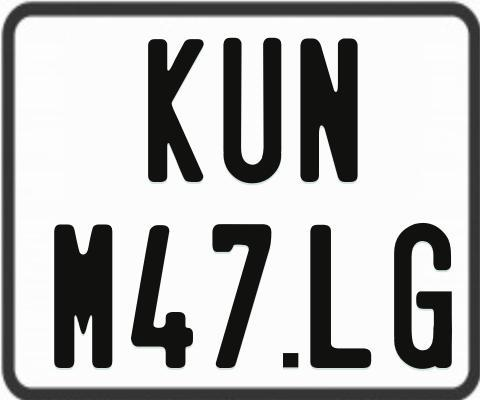4: (130, 222, 195, 366)
7: (212, 223, 277, 370)
G: (392, 220, 452, 370)
K: (148, 39, 209, 188)
L: (310, 224, 373, 372)
M: (52, 224, 113, 368)
N: (298, 39, 357, 186)
U: (223, 35, 283, 182)
